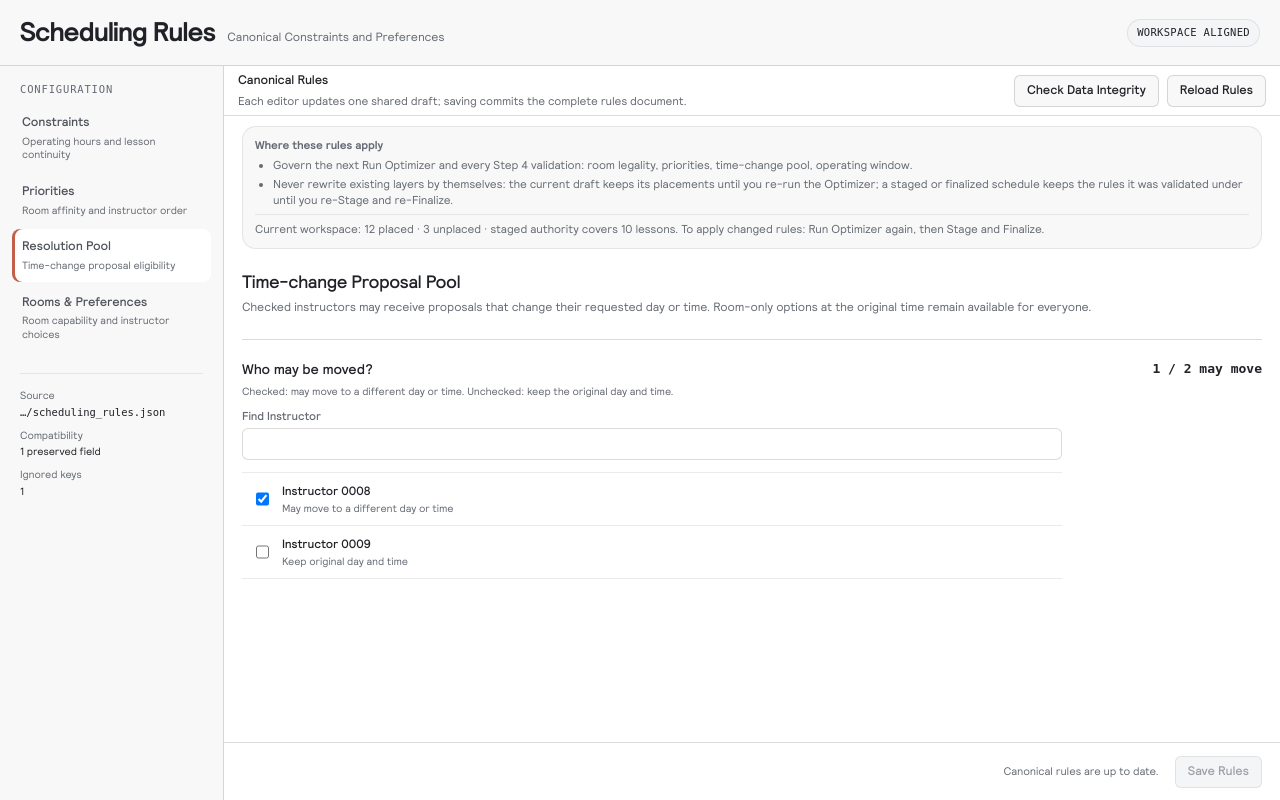
Test: RulesPage › retries a rules save when only an unrelated workspace file changed
Click the checkbox named "Allow time changes for Instructor 0008": (262, 499) [256,483,269,515]
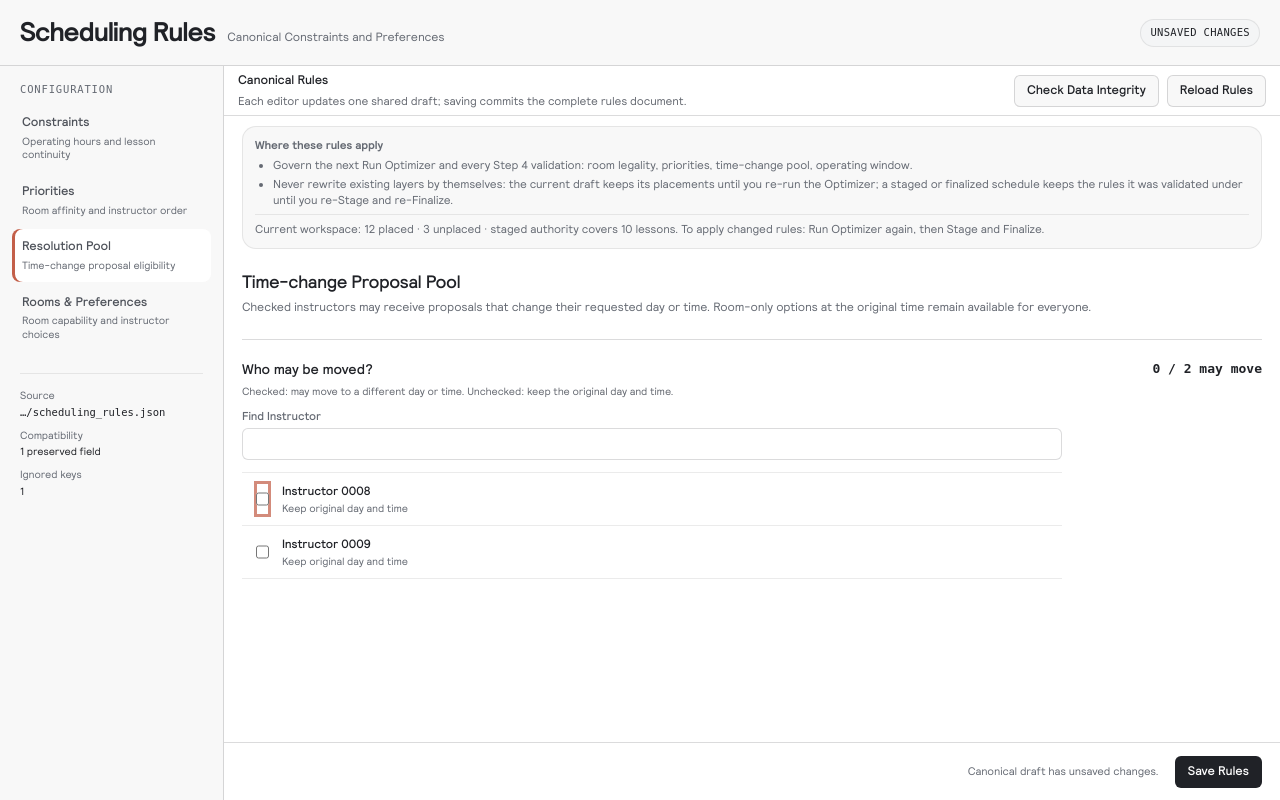
Click the button "Save Rules": (1218, 772) [1175,756,1262,788]
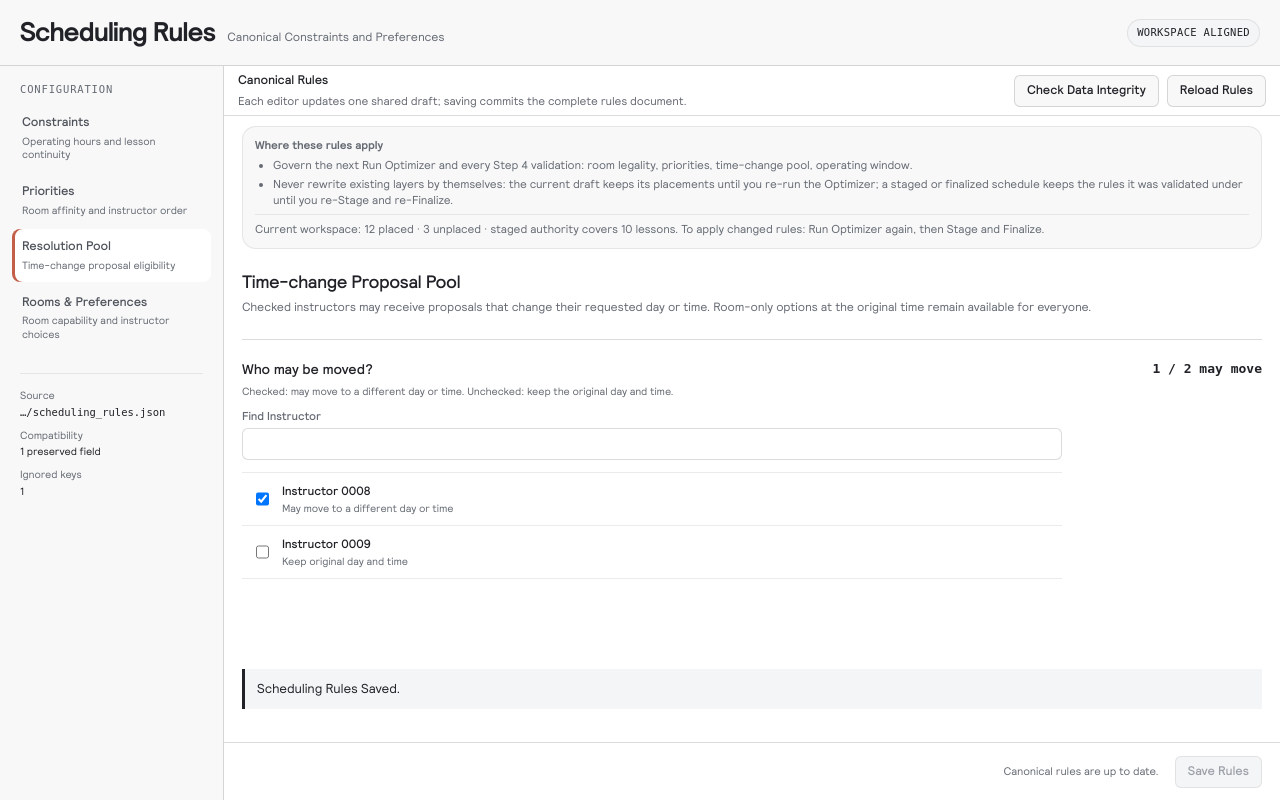
Check: the text "Scheduling Rules Saved." is shown, box [242,669,1262,709]
